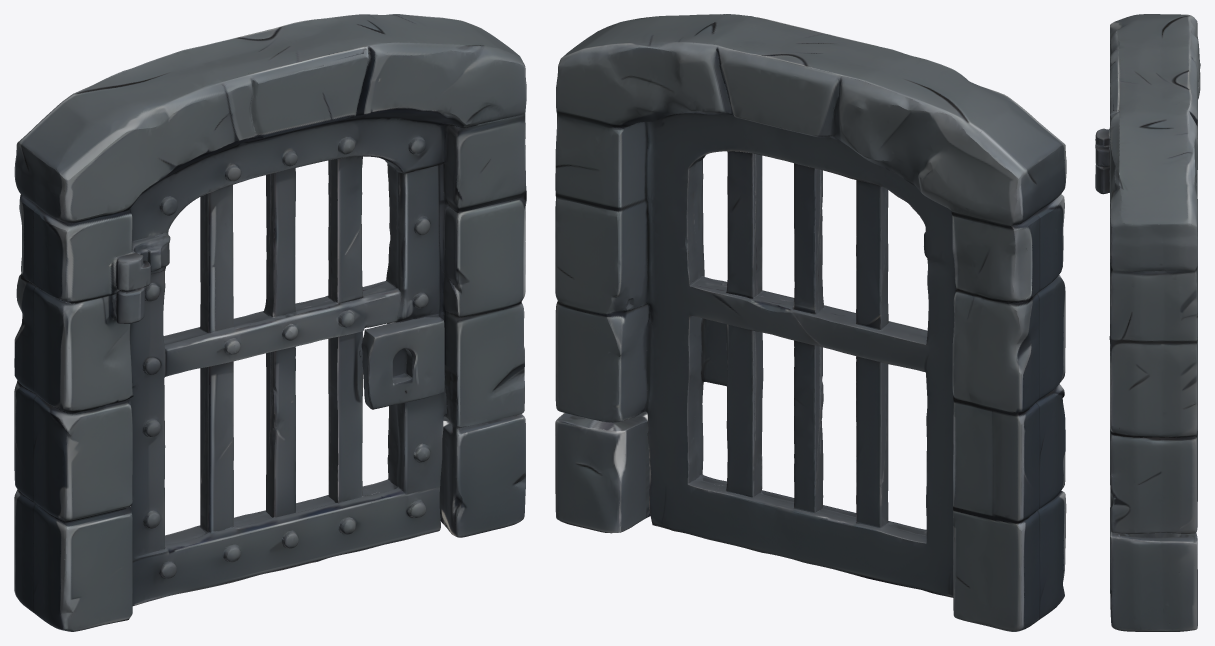
The model's file is base_basic_pbr.fbx.
3 renders of one model, left to right at view 1: azimuth 30°, elevation 25°; view 2: azimuth 150°, elevation 25°; view 3: azimuth 270°, elevation 25°, orthographic. The views are drawn at different scales.
Parts seen in each view (by area): view 1: model; view 2: model; view 3: model.
Part boxes in pixels (x1,y1,x2,y2): model: (14, 14, 526, 631); model: (555, 14, 1066, 631); model: (1095, 14, 1200, 631).
Size of the model in its own units: 182 by 190 by 39.89.
1 material, 1 textured.
